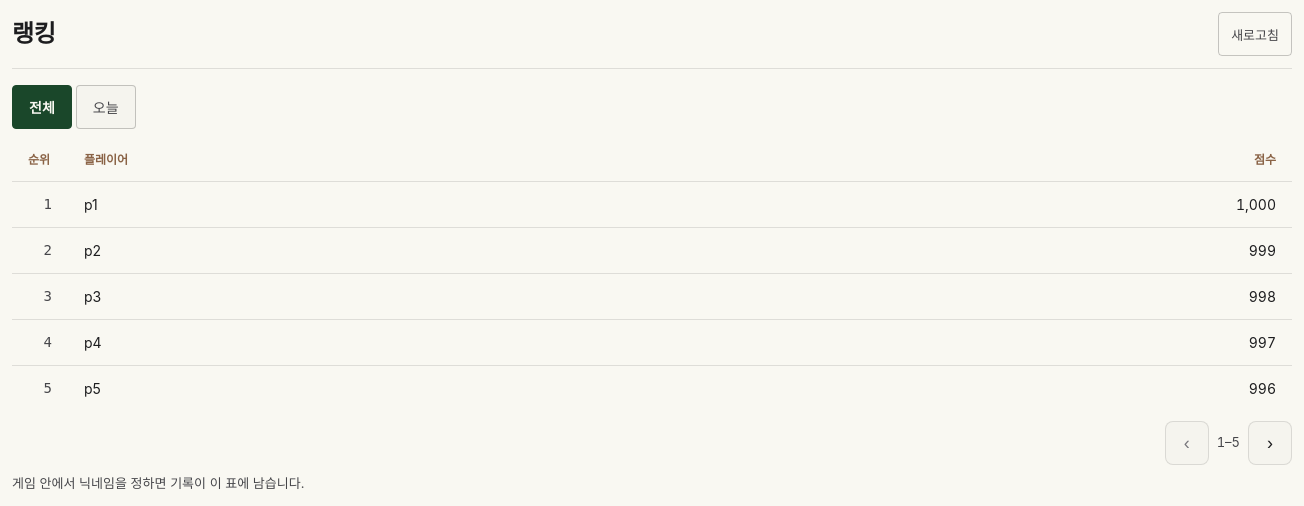
it: 쪽 넘김 (상세 화면의 TOP 5 → TOP 10) › 다섯 줄만 보이고, 넘기면 나머지 다섯 줄이 온다
Check: the text "p1" is shown, box [84,196,98,213]
Check: the text "p6" is not shown
What coordinates should you click on to do the following:
click the button named "다음 순위"
I would click on:
 (1270, 443)
Its box is [1248,421,1292,465].
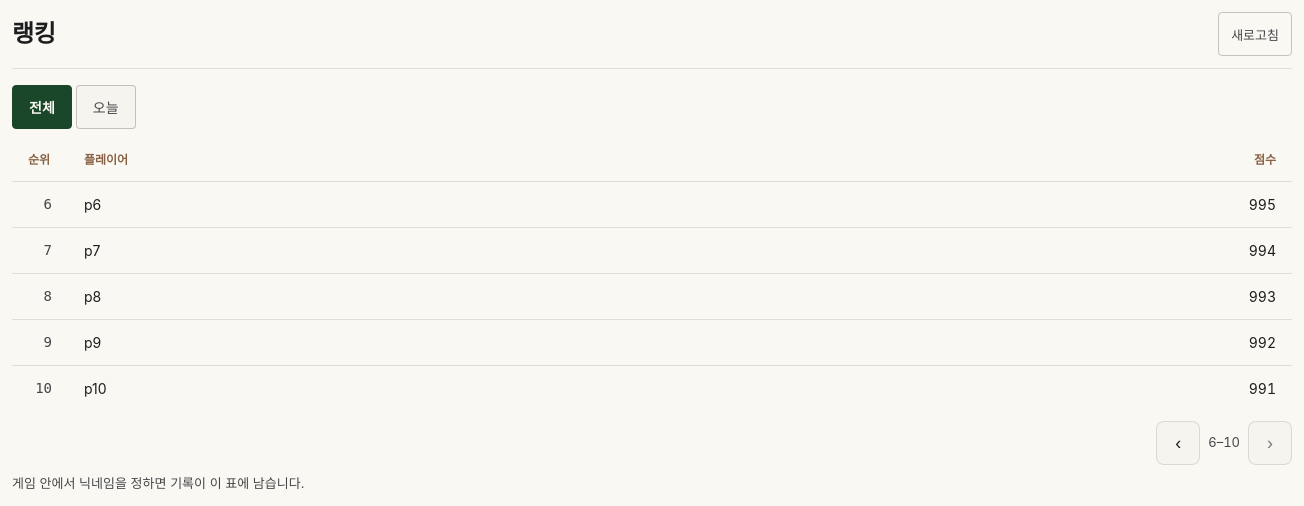
Check: the text "p6" is shown, box [84,196,101,213]
Check: the text "6–10" is shown, box [1208,433,1240,453]
